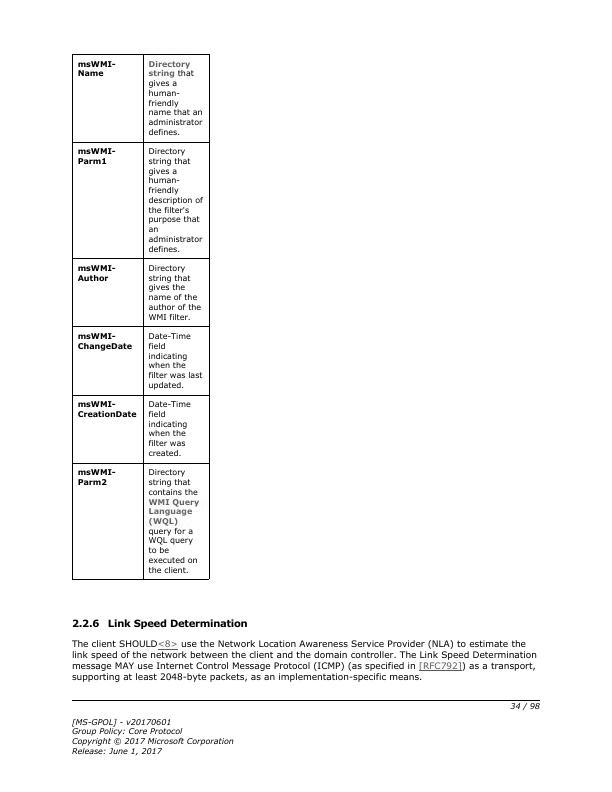table: (73, 53, 211, 581)
text: (67, 636, 540, 684), (70, 714, 235, 759), (68, 614, 252, 632)
